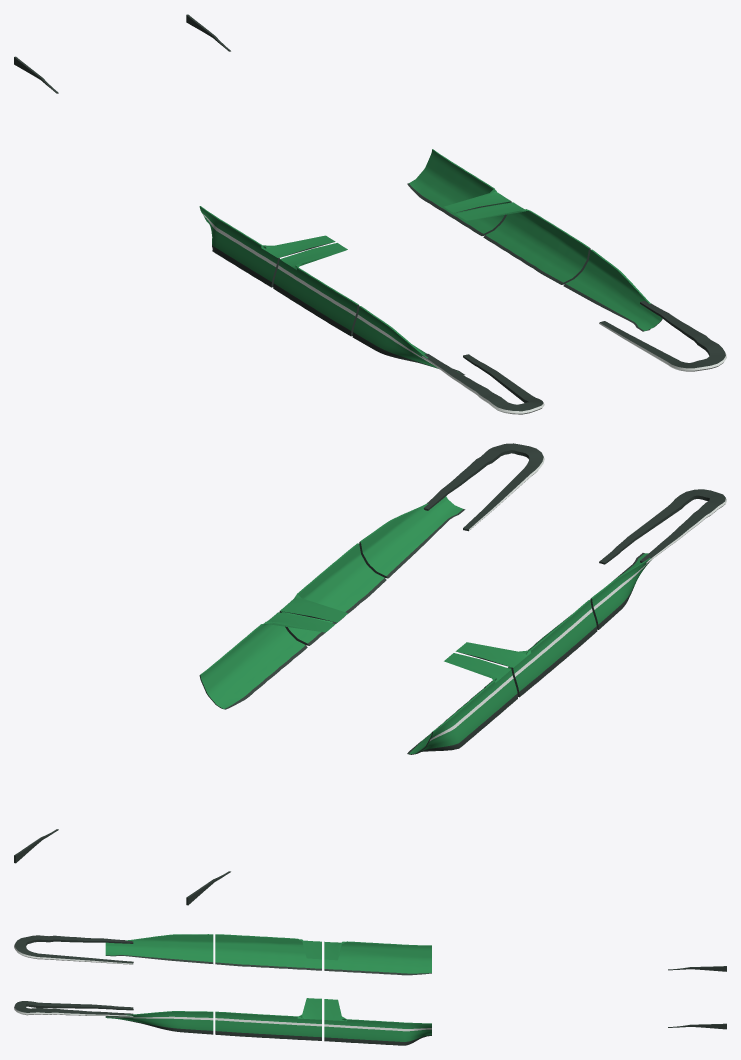
Rendered from wraith_armor_guard.fbx.
3 renders of one model, top to bottom at view 1: azimuth 30°, elevation 25°; view 2: azimuth 150°, elevation 25°; view 3: azimuth 270°, elevation 25°, orthographic. The views are drawn at different scales.
Parts seen in each view (by area): view 1: Armor_Guard; view 2: Armor_Guard; view 3: Armor_Guard.
Part boxes in pixels (box(x1,y1,x2,y2)): Armor_Guard: box(14, 14, 726, 414); Armor_Guard: box(14, 443, 726, 905); Armor_Guard: box(14, 934, 726, 1045).
Bounding box in the file's own units: 175 × 31.18 × 638.
